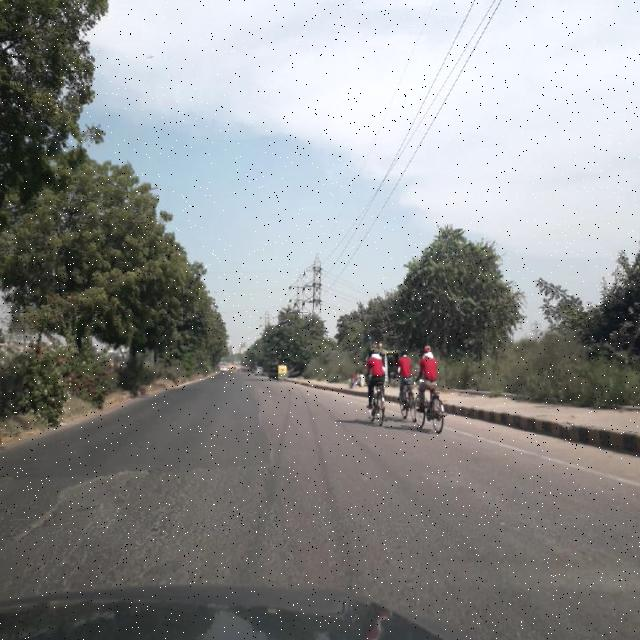D00: (9, 459, 153, 546)
D20: (14, 466, 239, 597)
